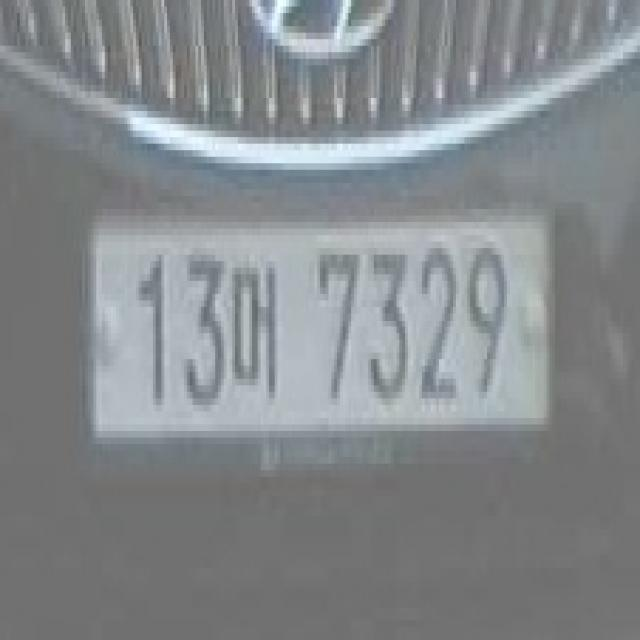1: (130, 235, 176, 425)
2: (416, 235, 459, 412)
3: (178, 242, 235, 424), (365, 242, 411, 412)
7: (314, 235, 362, 412)
9: (462, 209, 512, 418)
license_plate: (74, 190, 564, 483)
meo: (230, 255, 280, 405)
